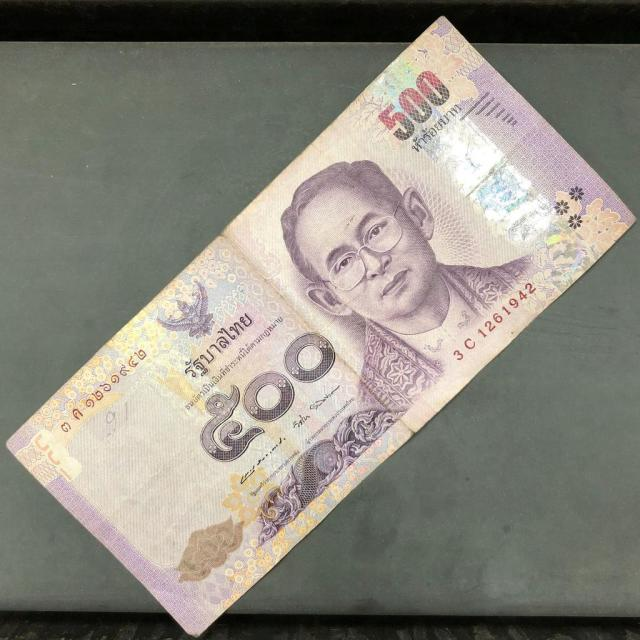THAI500: (7, 18, 634, 636)
